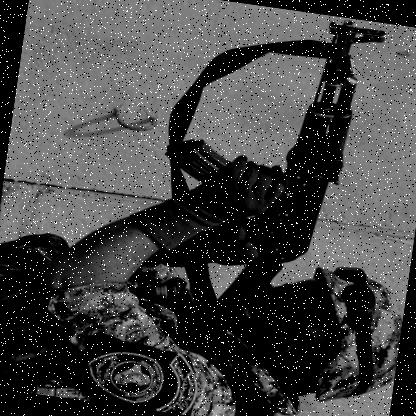rifle: (152, 0, 389, 319)
